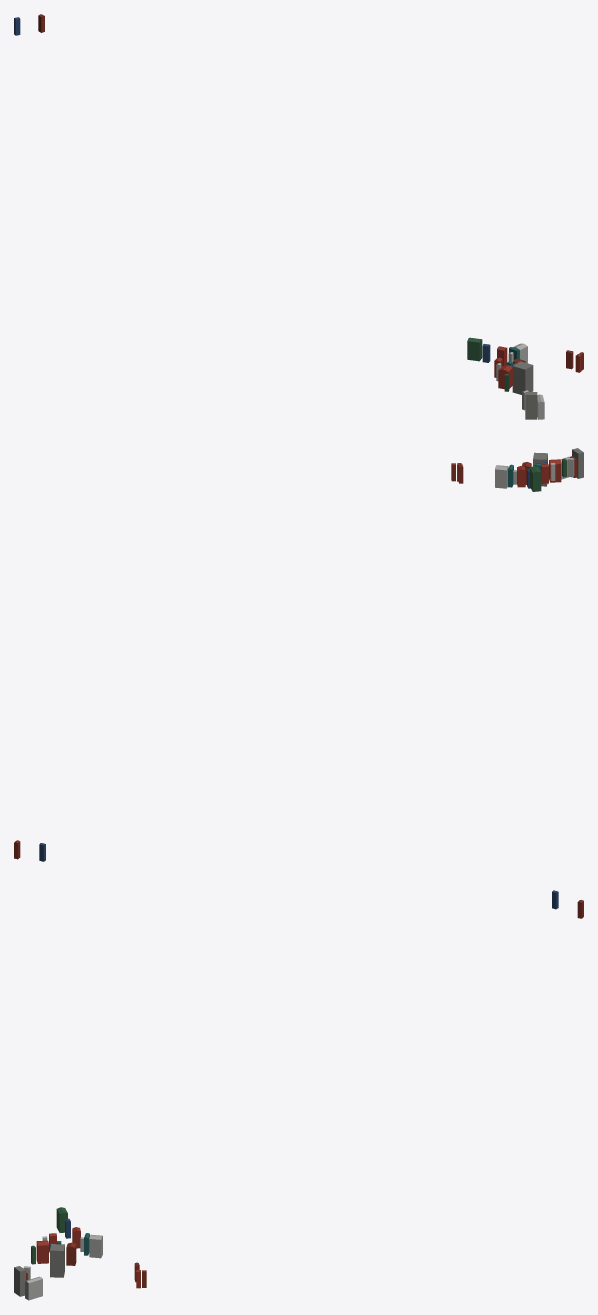
File: near-15-27373-14876.b821365c.glb
3 renders of one model, top to bottom at view 1: azimuth 30°, elevation 25°; view 2: azimuth 150°, elevation 25°; view 3: azimuth 330°, elevation 25°, orthographic.
Size of the model in its own units: 106 by 47.21 by 943.
